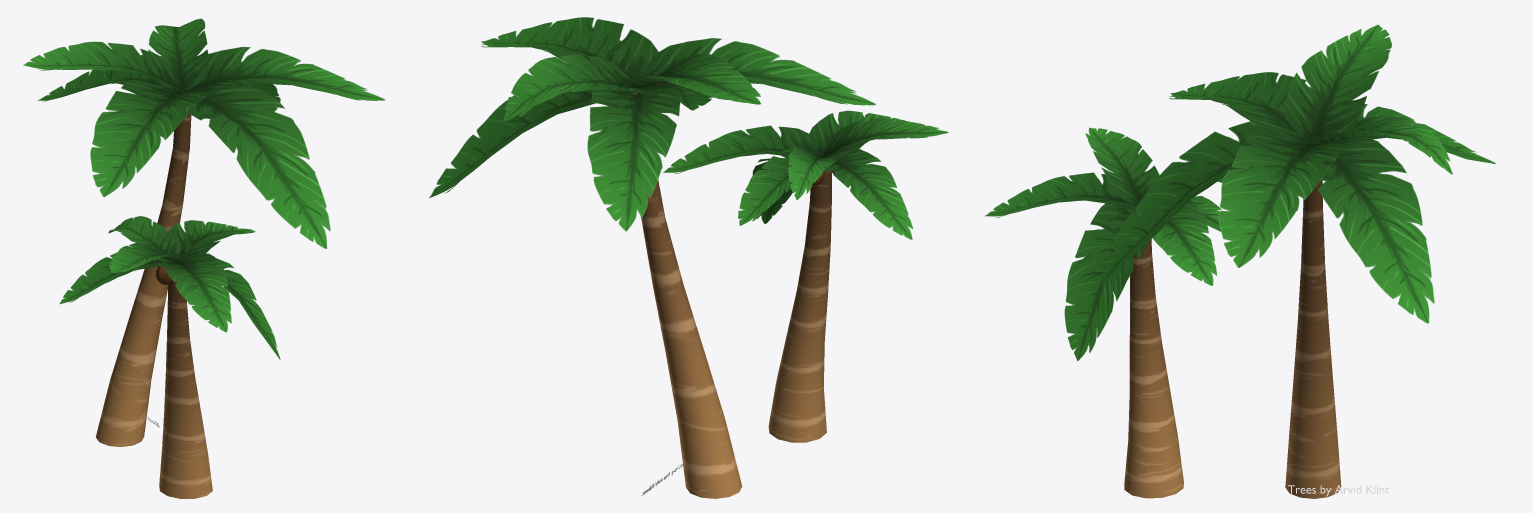
File: palms_01.glb
3 views of the same model, side by side, from view 1: azimuth 30°, elevation 25°; view 2: azimuth 150°, elevation 25°; view 3: azimuth 270°, elevation 25° (orthographic). The views are drawn at different scales.
Visible parts, largest first — view 1: leave3, tree1, tree2, leave4, leave2, leave6, leave4.001, leave7, leave2.001, leave7.001, leave3.001, leave5 (+2 smaller); view 2: tree1, tree2, leave5, leave4, leave2, leave8, leave7, leave5.001, leave6, leave2.001, leave6.001, leave8.001 (+2 smaller); view 3: leave8, tree1, tree2, leave2, leave6, leave3, leave3.001, leave4, leave6.001, leave2.001, leave4.001, leave7 (+2 smaller).
Boxes of the visible parts, x1,y1,x2,y2 form: leave3: (182, 80, 330, 248); tree1: (96, 112, 191, 446); tree2: (159, 281, 212, 498); leave4: (90, 80, 210, 197); leave2: (184, 46, 385, 100); leave6: (23, 41, 183, 92); leave4.001: (155, 253, 231, 332); leave7: (148, 18, 208, 91); leave2.001: (164, 220, 255, 257); leave7.001: (108, 216, 181, 261); leave3.001: (208, 258, 280, 359); leave5: (37, 55, 165, 101); tree1: (641, 179, 742, 498); tree2: (768, 170, 831, 442); leave5: (587, 87, 680, 231); leave4: (639, 38, 875, 105); leave2: (481, 17, 658, 77); leave8: (429, 89, 634, 198); leave7: (504, 54, 644, 121); leave5.001: (824, 149, 913, 239); leave6: (617, 53, 760, 104); leave2.001: (663, 125, 821, 173); leave6.001: (822, 117, 948, 157); leave8.001: (738, 148, 794, 225); leave8: (1318, 137, 1434, 323); tree1: (1285, 180, 1341, 498); tree2: (1124, 214, 1183, 498); leave2: (1218, 132, 1349, 267); leave6: (1285, 24, 1391, 143); leave3: (1097, 119, 1297, 286); leave3.001: (1064, 203, 1149, 360); leave4: (1169, 72, 1310, 143); leave6.001: (1085, 127, 1159, 204); leave2.001: (1122, 200, 1217, 285); leave4.001: (984, 172, 1137, 217); leave7: (1310, 116, 1452, 174).
Size of the model in its own units: 7.98 by 7.7 by 8.74.
Materials: 4 (3 with a texture image).
